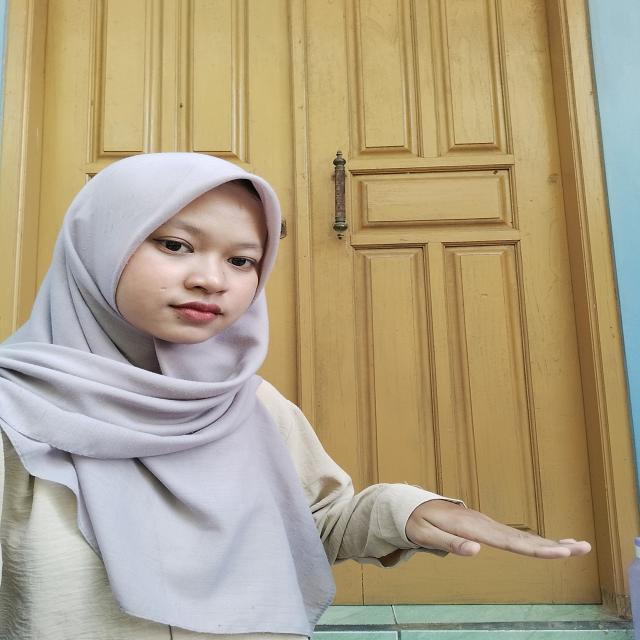adik: (345, 475, 607, 612)
